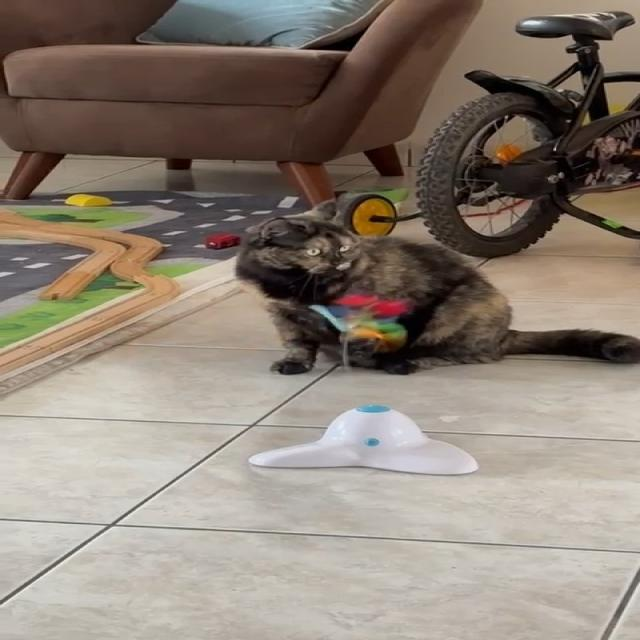authorized: (233, 211, 639, 375)
